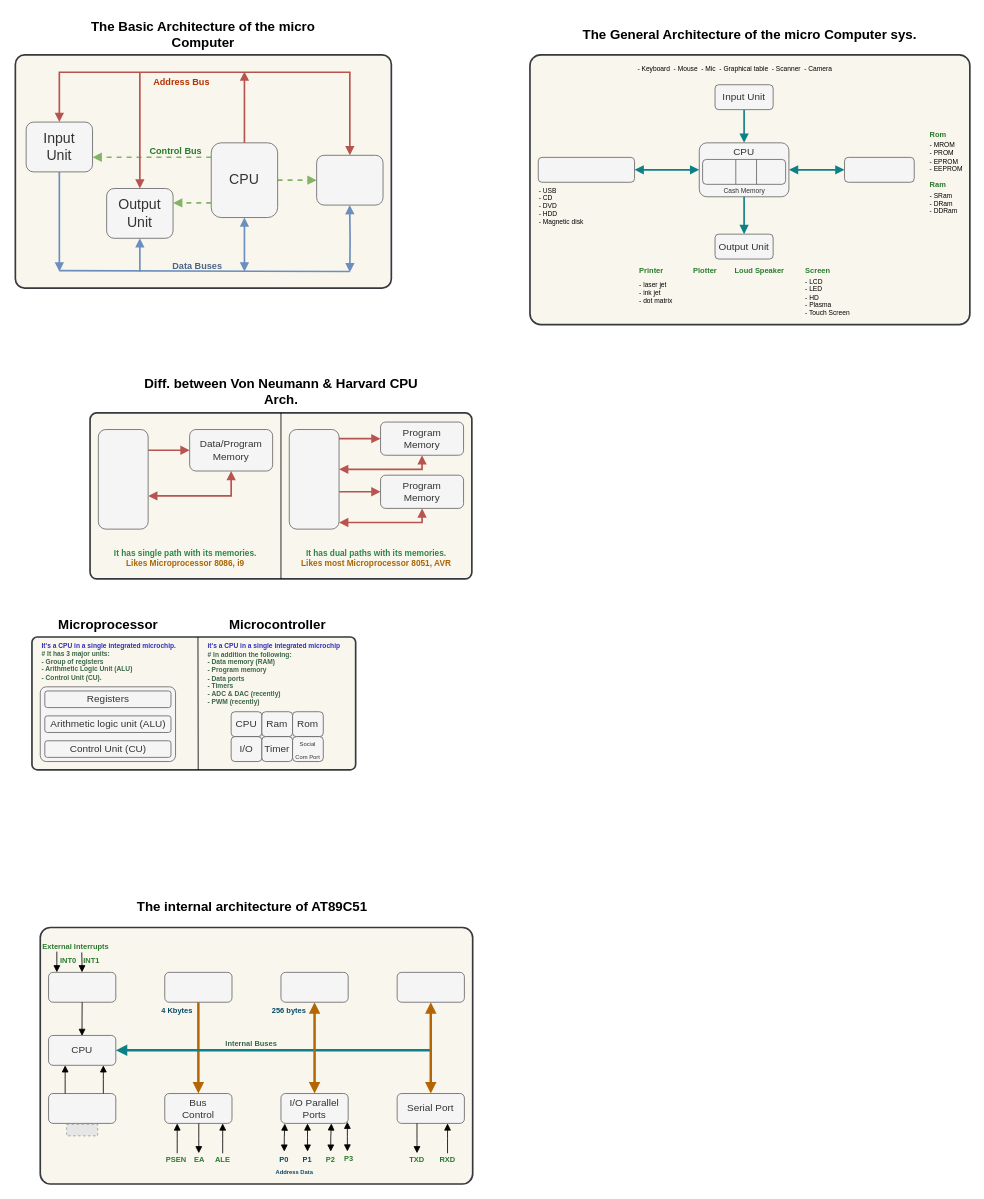
This 984x1199 diagram has some shape labels left out. Grey dashed boxes stand in for pictures. The shapes that lost their labels are listed below. From the top down, each one's box as (x1, y1, x2, y2) in pixels, then its label:
(316, 154, 383, 205): Memory Unit
(537, 157, 635, 182): Secondary Memory
(702, 159, 786, 184): ALU CU reg
(844, 157, 914, 182): Main Memory
(98, 429, 148, 529): Von Neumann CPU
(288, 429, 339, 529): Harvard CPU
(48, 972, 116, 1002): Interrupt Control
(164, 972, 232, 1002): ON-CHIP Flash Memory
(280, 972, 348, 1002): ON-CHIP RAM
(396, 972, 464, 1002): Timer 0 Timer 1
(48, 1093, 116, 1123): Internal Oscillator
